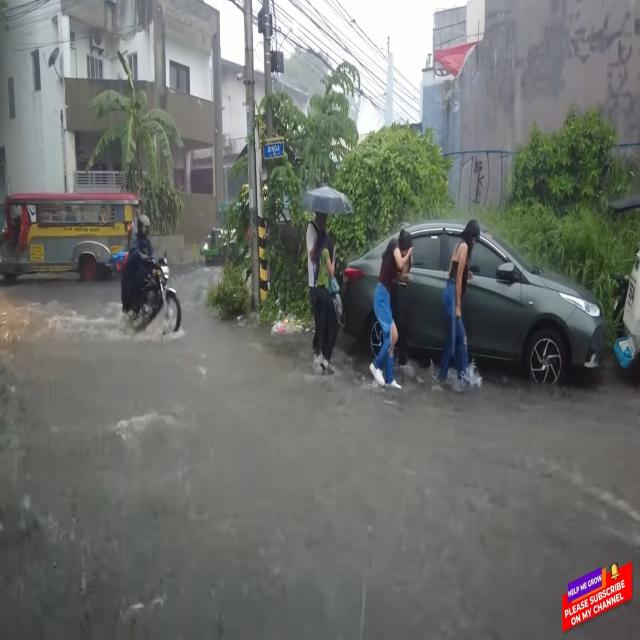half: (135, 210, 154, 247)
